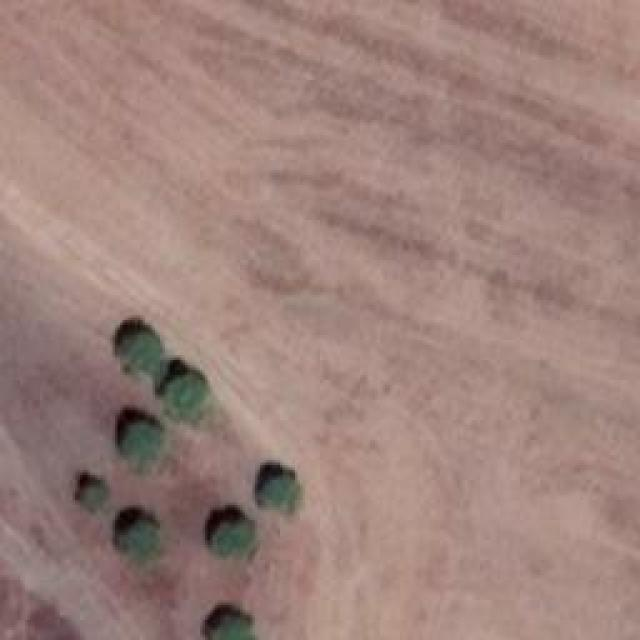Tree: (163, 375, 208, 418), (210, 518, 253, 563), (118, 420, 163, 460), (120, 330, 160, 370), (117, 518, 155, 558), (260, 475, 298, 513), (215, 615, 250, 640), (80, 482, 108, 510)
